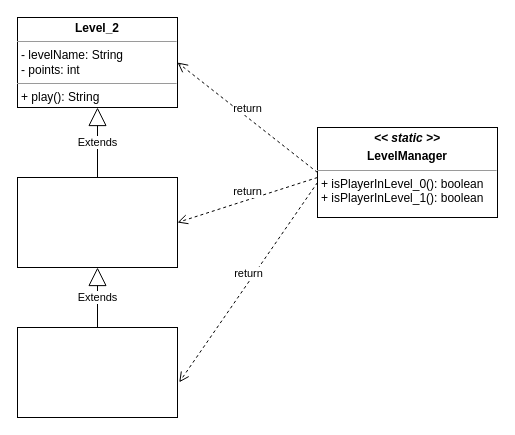
Some shapes in this 515 by 435 pixel diagram are drawn without their labels. The shapes that lost their labels are listed below. From the top down, each one's centre as x and y in pixels, then its label:
At (x=97, y=222): "Level_1 - levelName: String - points: int + play(): String".
At (x=97, y=372): "Level_0 - levelName: String - points: int + play(): String".
